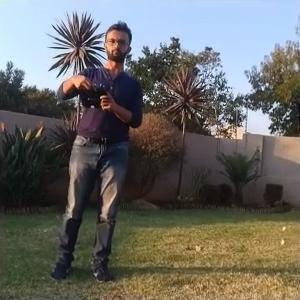follow: (42, 16, 146, 287)
